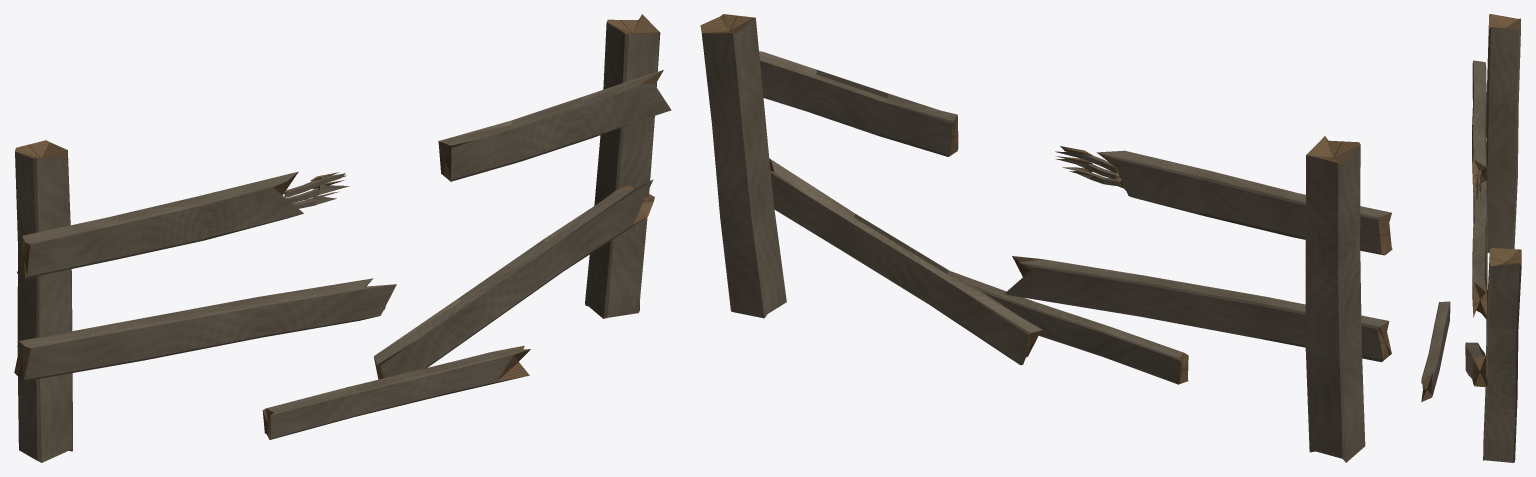
Rendered from fence_broken.fbx.
The picture shows the model from 3 angles, left to right: view 1: azimuth 30°, elevation 25°; view 2: azimuth 150°, elevation 25°; view 3: azimuth 270°, elevation 25°; orthographic projection. The views are drawn at different scales.
Visible parts, largest first — view 1: fence_broken; view 2: fence_broken; view 3: fence_broken.
Boxes of the visible parts, x1,y1,x2,y2 form: fence_broken: (14,14,671,462); fence_broken: (700,14,1392,462); fence_broken: (1421,14,1521,462).
Size of what is drawn, in the model's own units: 2.31 by 1.04 by 0.4091.
Materials: 1 (1 with a texture image).
